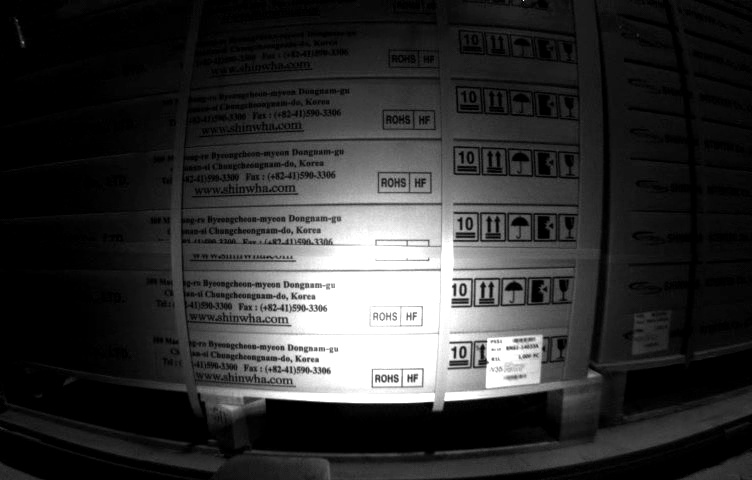True Barcode: (486, 336, 544, 387), (633, 311, 671, 352)
